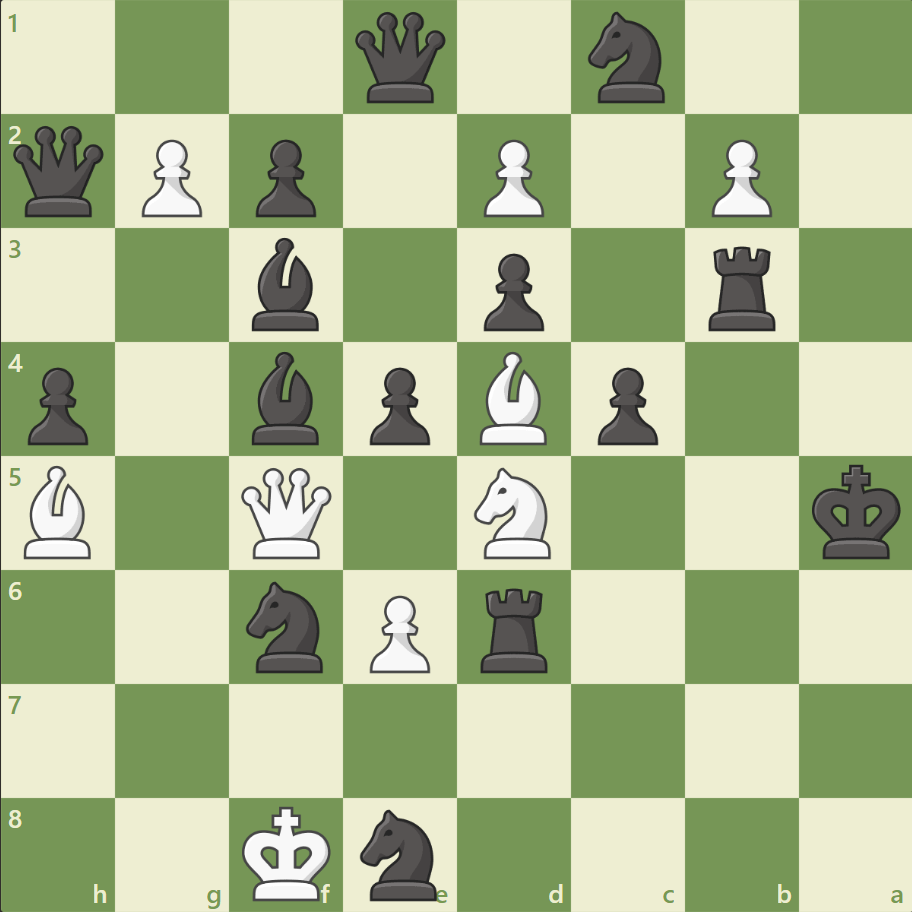B: (17, 460, 101, 563), (471, 347, 555, 449)
K: (238, 798, 338, 906)
N: (465, 461, 562, 564)
P: (701, 132, 776, 223), (474, 132, 549, 223), (133, 132, 208, 223), (361, 586, 435, 677)
Q: (237, 463, 336, 562)
b: (244, 233, 328, 336), (244, 347, 328, 449)
k: (806, 458, 906, 566)
n: (351, 802, 449, 904), (579, 7, 676, 110), (238, 575, 335, 677)
p: (20, 359, 95, 450), (474, 246, 549, 337), (247, 132, 322, 223), (588, 359, 662, 450), (361, 359, 435, 450)
q: (10, 122, 109, 222), (351, 9, 450, 108)
r: (473, 579, 556, 676), (700, 239, 783, 336)
